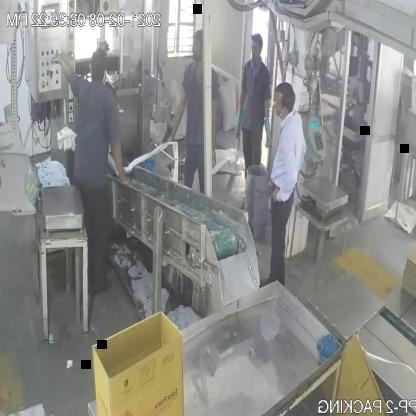glove: (231, 80, 248, 144), (258, 102, 274, 159)
no_glove: (270, 129, 308, 213), (103, 127, 136, 196), (164, 76, 190, 154), (207, 88, 221, 176), (50, 53, 72, 84)
